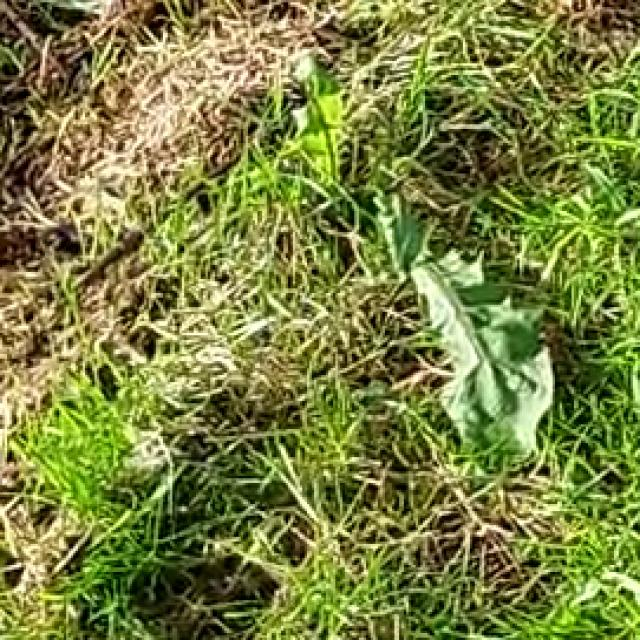organic waste: (264, 103, 624, 509)
